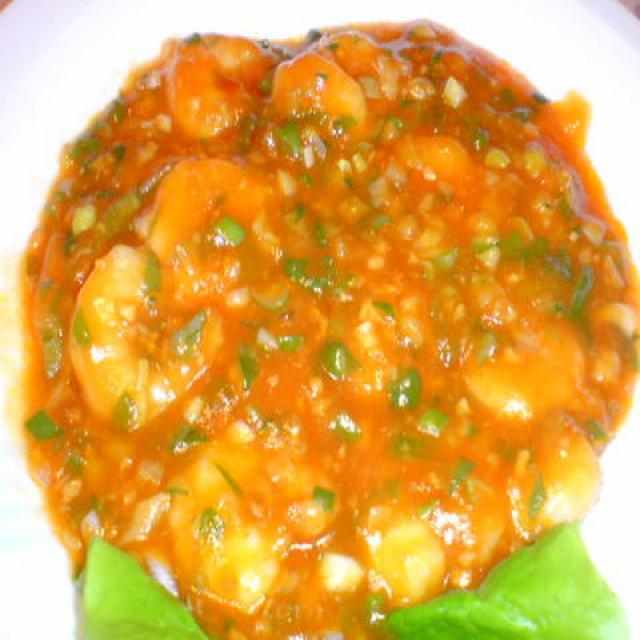熟制海鲜: (22, 53, 638, 640)
